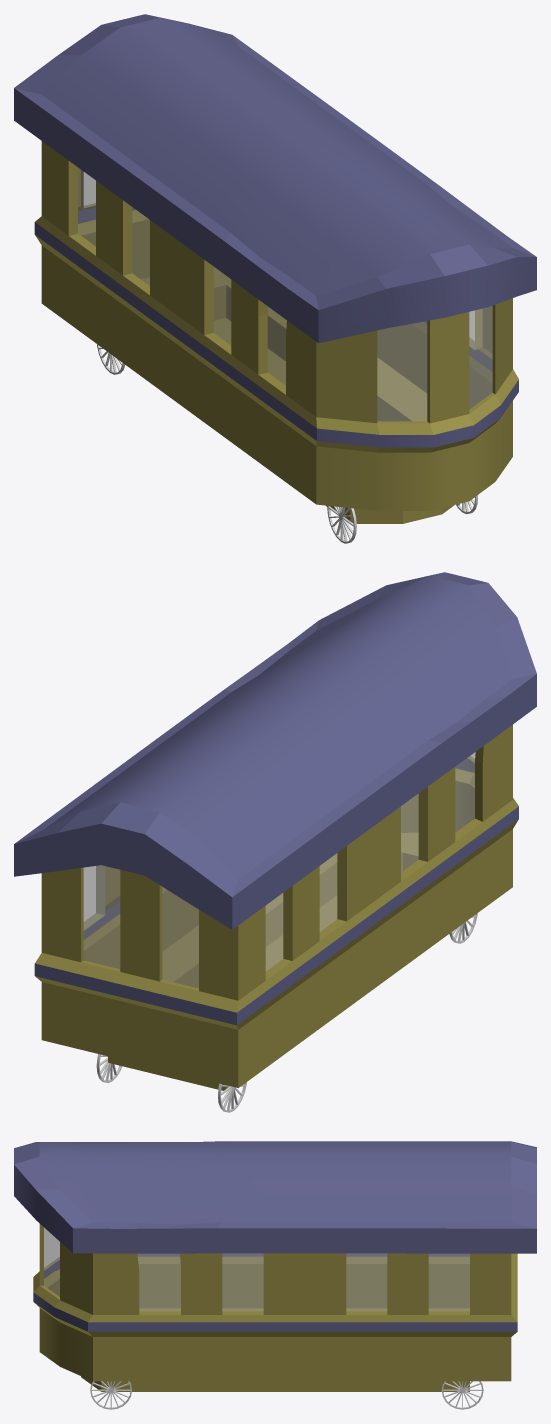
File: carriage_3.fbx
3 renders of one model, top to bottom at view 1: azimuth 30°, elevation 25°; view 2: azimuth 150°, elevation 25°; view 3: azimuth 270°, elevation 25°, orthographic. The views are drawn at different scales.
Parts seen in each view (by area): view 1: pCube2, polySurface962; view 2: pCube2; view 3: pCube2, polySurface959, polySurface960.
Part boxes in pixels (x1,y1,x2,y2): pCube2: (14,14,536,523); polySurface962: (327,505,356,543); pCube2: (14,572,536,1090); pCube2: (14,1141,536,1391); polySurface959: (90,1381,131,1409); polySurface960: (441,1381,483,1409).
Size of the model in its own units: 60.75 by 82.95 by 166.
